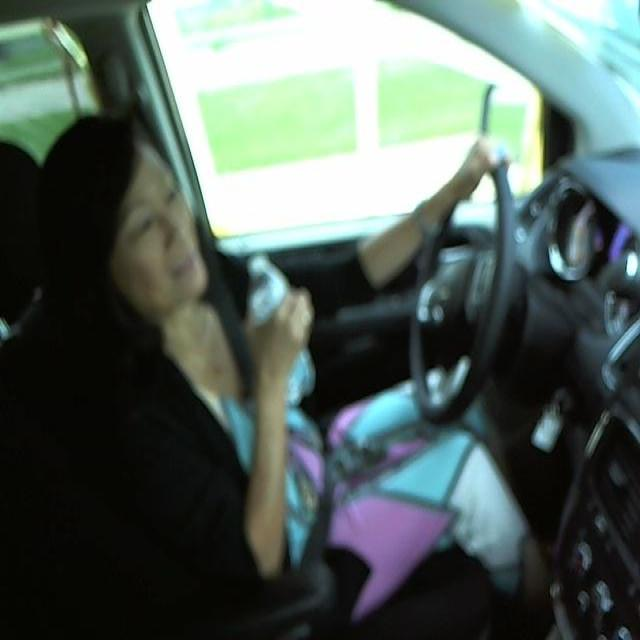Seatbelt: (244, 248, 308, 397)
